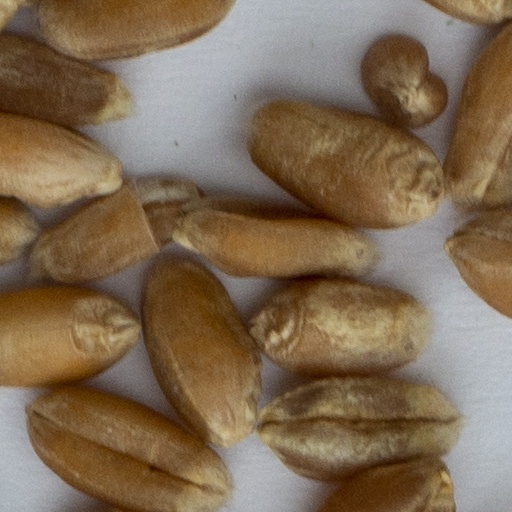Wheat-grain-damaged-poly: (359, 34, 447, 124)
